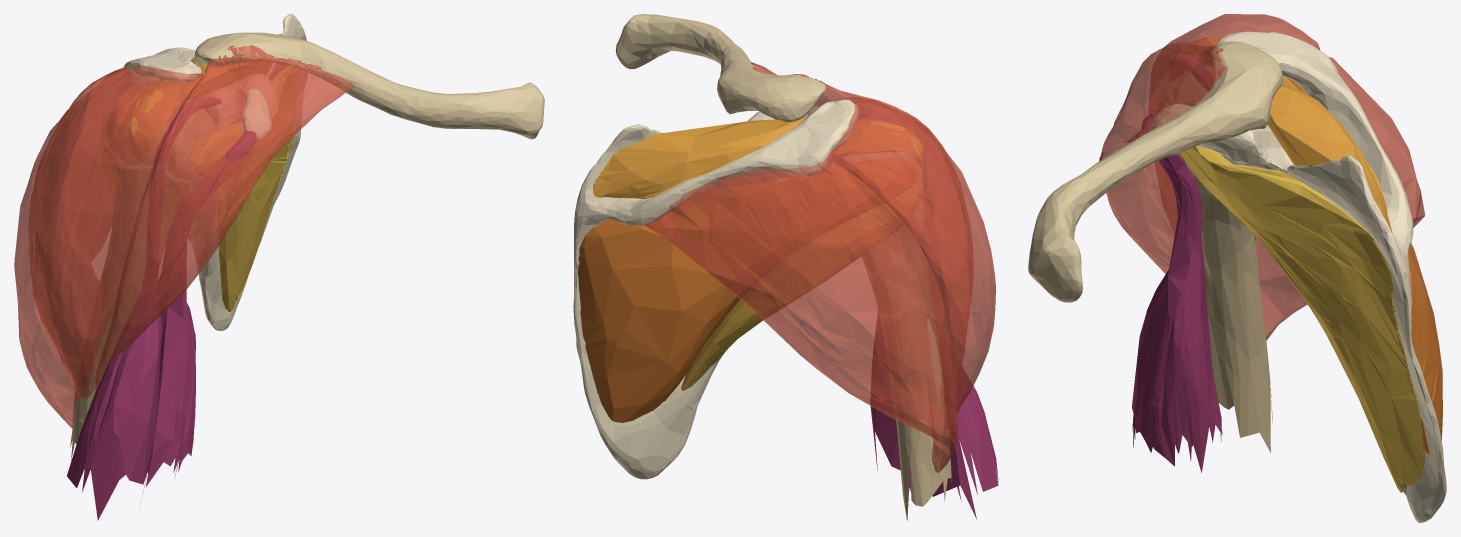
The model's file is shoulder.glb.
3 renders of one model, left to right at view 1: azimuth 30°, elevation 25°; view 2: azimuth 150°, elevation 25°; view 3: azimuth 270°, elevation 25°, orthographic. The views are drawn at different scales.
Visible parts, largest first — view 1: deltoid, biceps, clavicle, humerus, scapula, subscapularis, supraspinatus, infraspinatus, teresminor; view 2: deltoid, infraspinatus, scapula, humerus, supraspinatus, clavicle, teresminor, biceps; view 3: subscapularis, scapula, deltoid, biceps, clavicle, humerus, supraspinatus, infraspinatus.
Part boxes in pixels (x1,y1,x2,y2): deltoid: [14, 45, 354, 428]; biceps: [67, 98, 256, 520]; clavicle: [194, 32, 544, 139]; humerus: [70, 100, 217, 460]; scapula: [123, 14, 307, 330]; subscapularis: [190, 66, 299, 311]; supraspinatus: [122, 33, 282, 161]; infraspinatus: [105, 87, 220, 225]; teresminor: [101, 144, 190, 240]; deltoid: [644, 61, 995, 472]; infraspinatus: [578, 157, 915, 422]; scapula: [573, 99, 858, 479]; humerus: [825, 152, 951, 521]; supraspinatus: [593, 117, 923, 198]; clavicle: [615, 14, 825, 121]; teresminor: [681, 185, 921, 390]; biceps: [858, 113, 998, 519]; subscapularis: [1158, 94, 1425, 492]; scapula: [1149, 31, 1446, 522]; deltoid: [1099, 14, 1425, 340]; biceps: [1132, 56, 1222, 472]; clavicle: [1028, 41, 1282, 302]; humerus: [1157, 65, 1272, 452]; supraspinatus: [1184, 37, 1392, 233]; infraspinatus: [1287, 78, 1442, 453].
Bounding box in the file's own units: 0.2176 × 0.1993 × 0.152.
